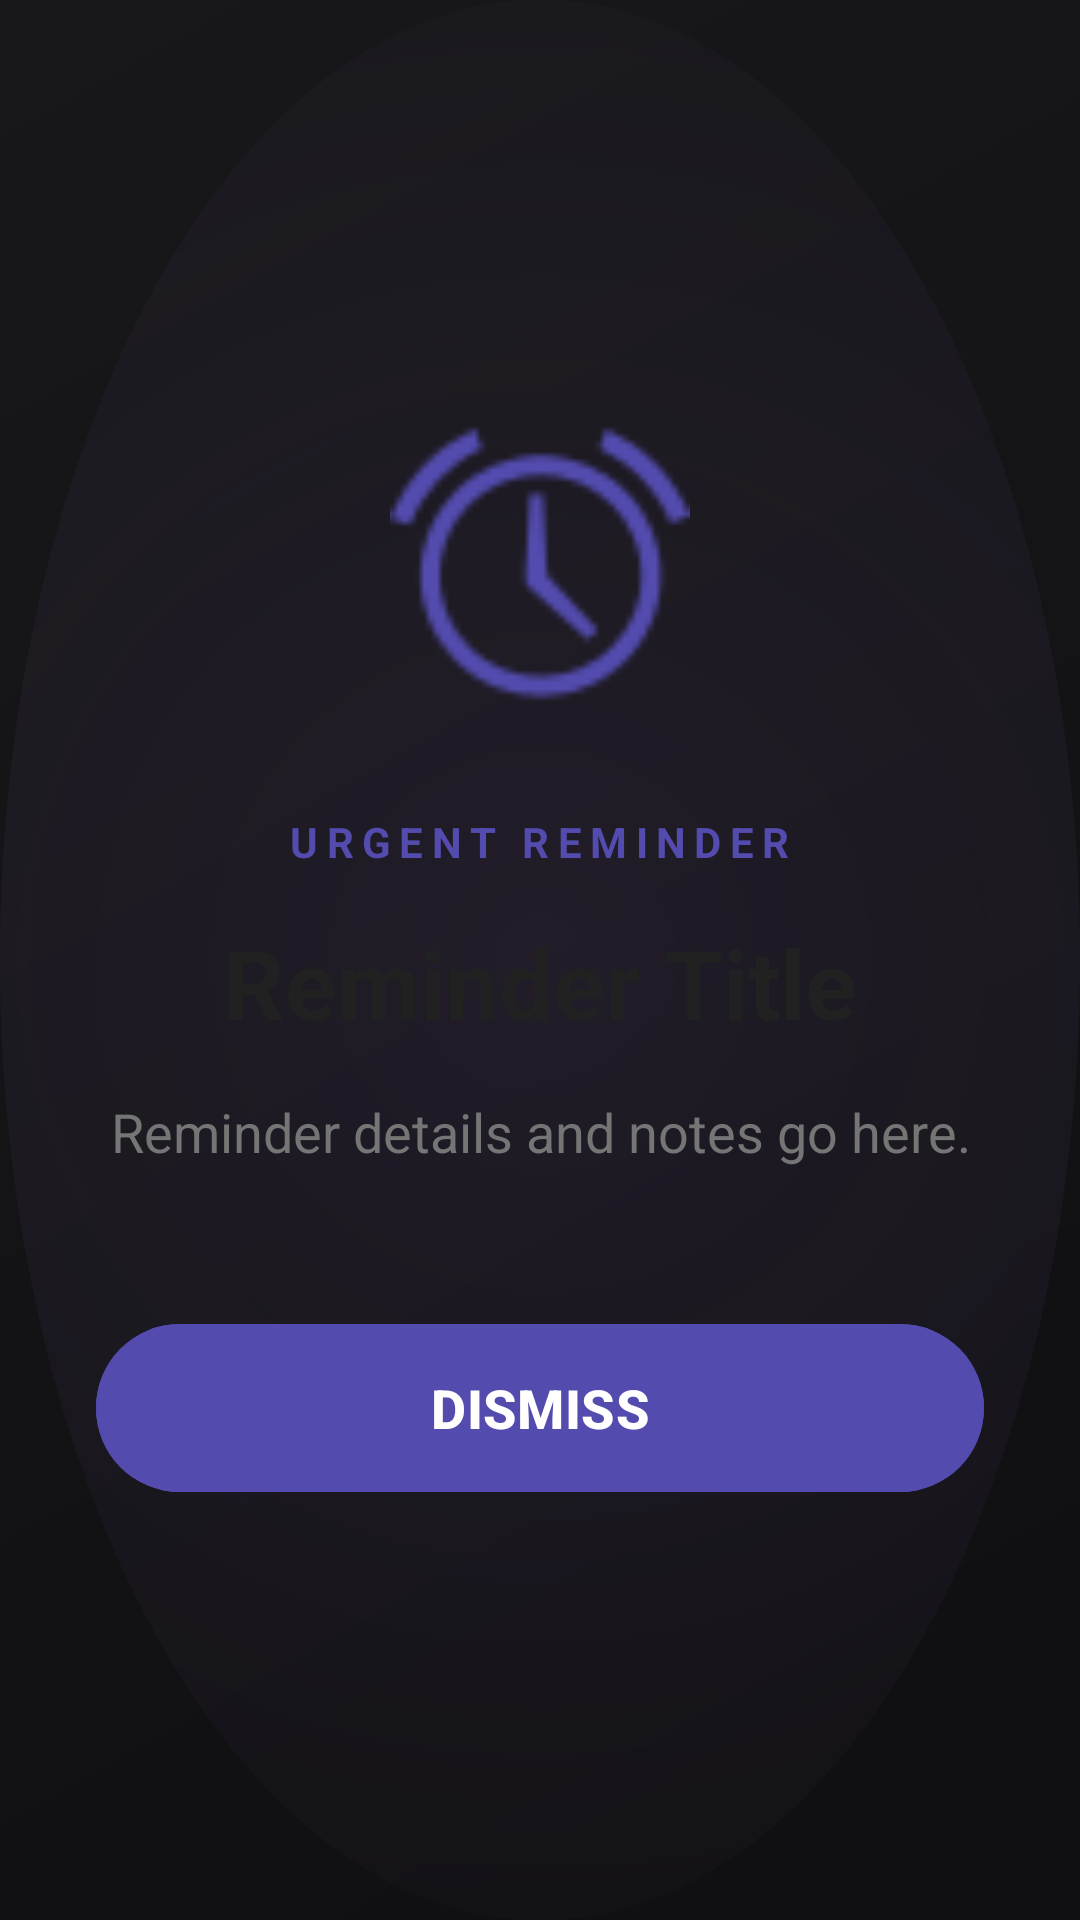

Screen size 1080×1920. Icon name, then its box in pixels as (x1, y1, x2, y2):
lock idle alarm: (390, 428, 690, 700)
